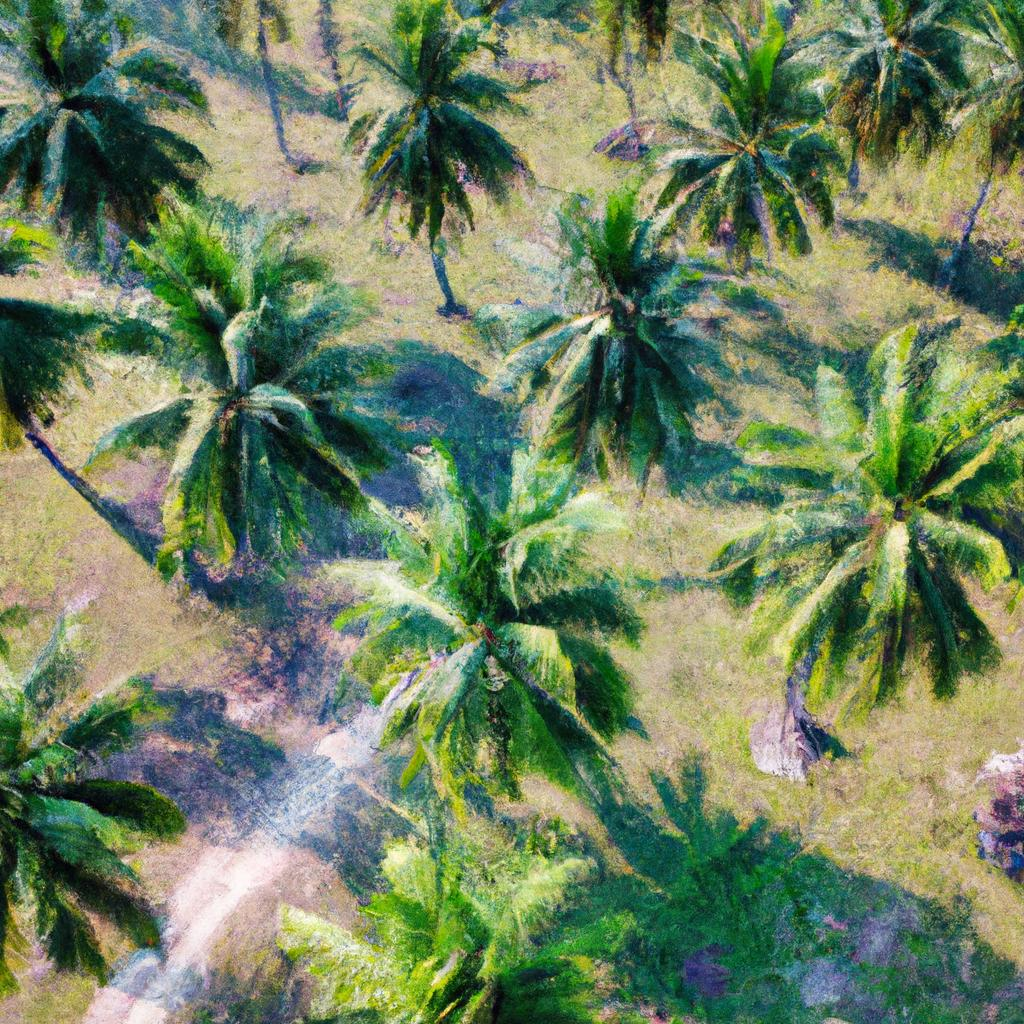coconut_tree: (733, 323, 1023, 753), (346, 440, 663, 812), (95, 220, 409, 585), (478, 182, 735, 501), (649, 15, 870, 291), (333, 10, 557, 231)
